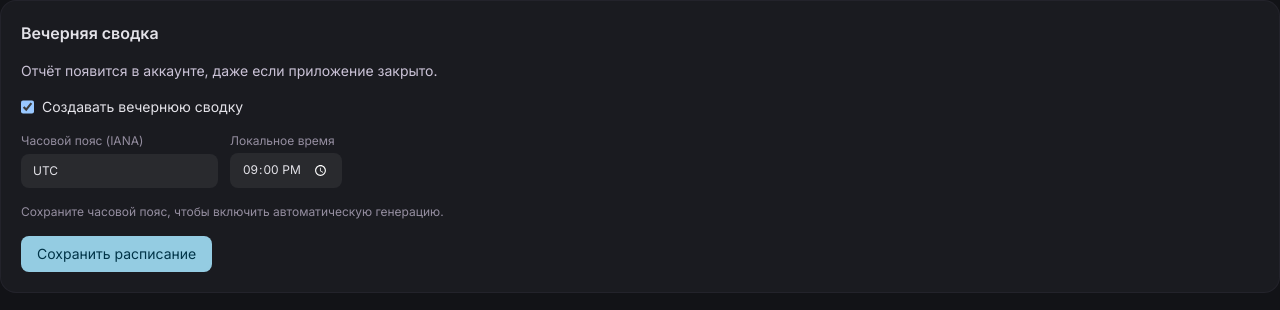
Test: Server evening settings › loads and persists enabled, IANA zone and evening time
Replace the text in the field labelled "Часовой пояс (IANA)" with "Europe/Saratov" at (120, 171), box [21,154,218,188]
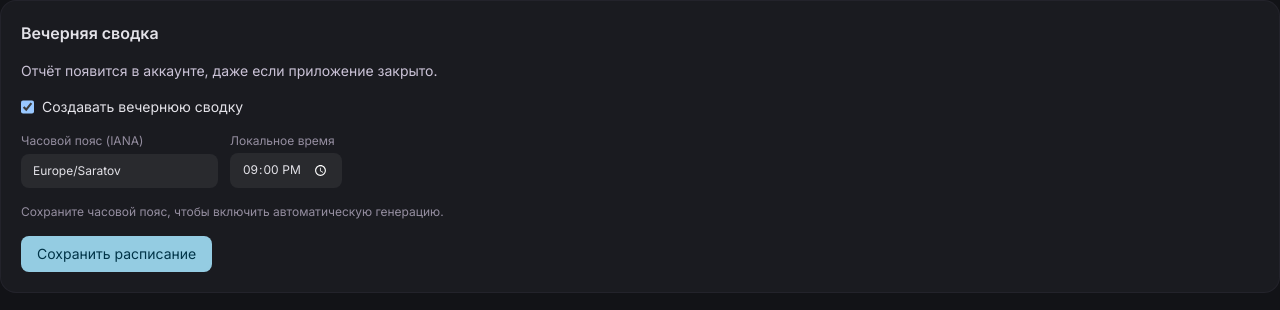
Replace the text in the time field labelled "Локальное время" with "20:30" at (286, 170), box [230,153,342,188]
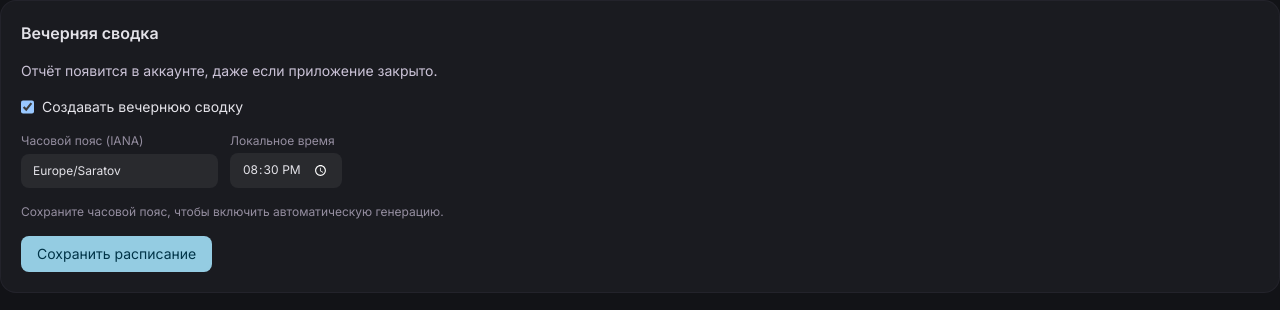
Click the button "Сохранить расписание".
click(117, 254)  # box [21,236,212,272]
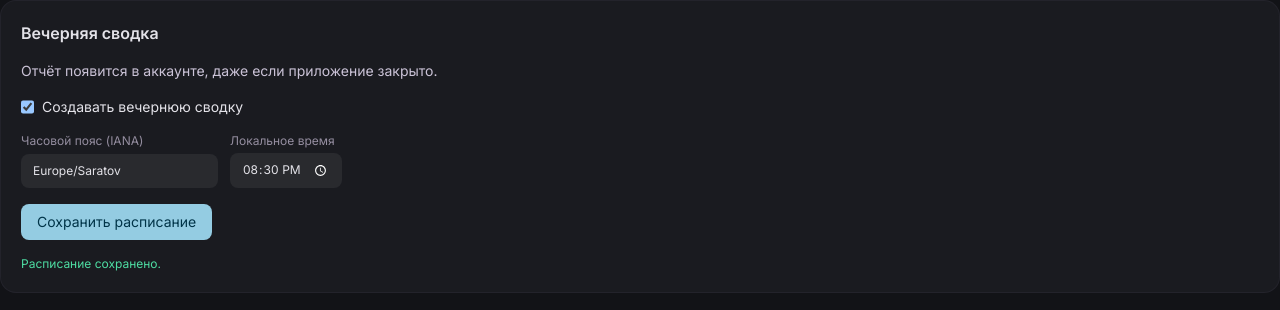
expect the text "Расписание сохранено." is shown: met, box [21,256,161,271]
